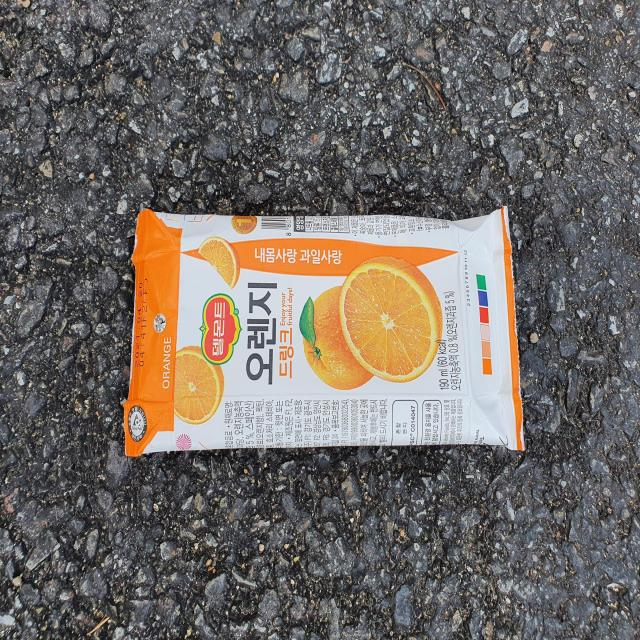paperpack: (123, 208, 525, 457)
